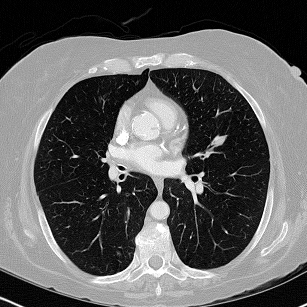nodule: (214, 135, 224, 145)
